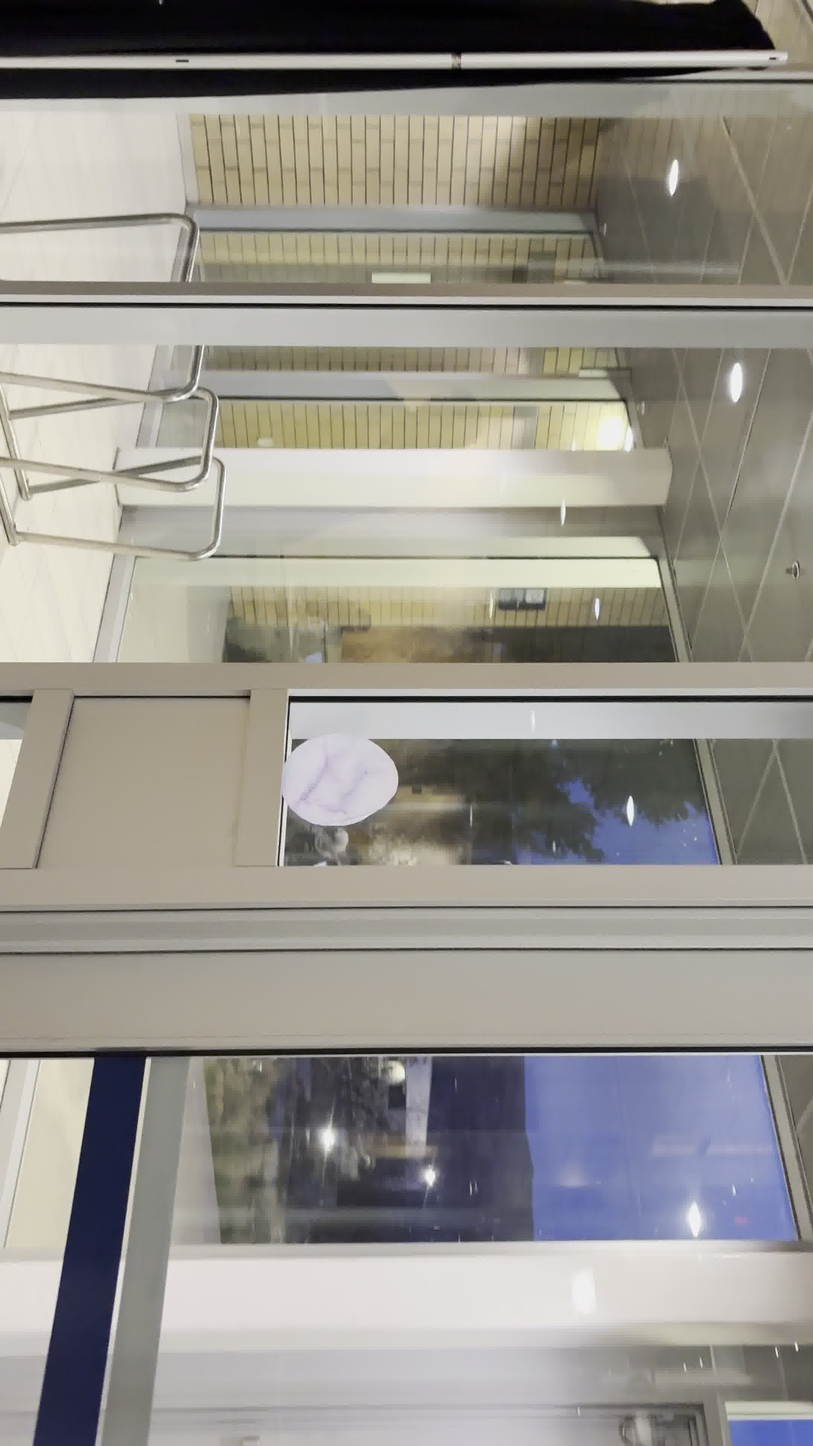Target: (279, 731, 400, 828)
